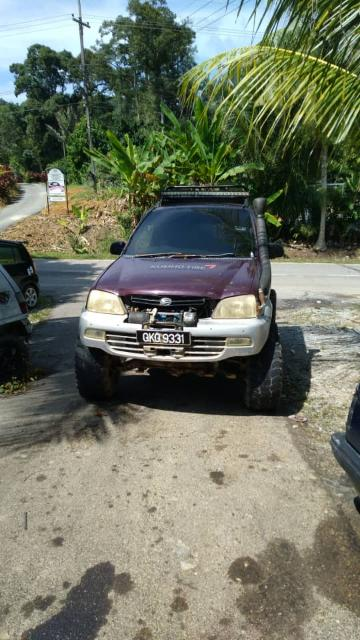License_Plate: (137, 330, 192, 346)
car: (74, 183, 285, 414)
